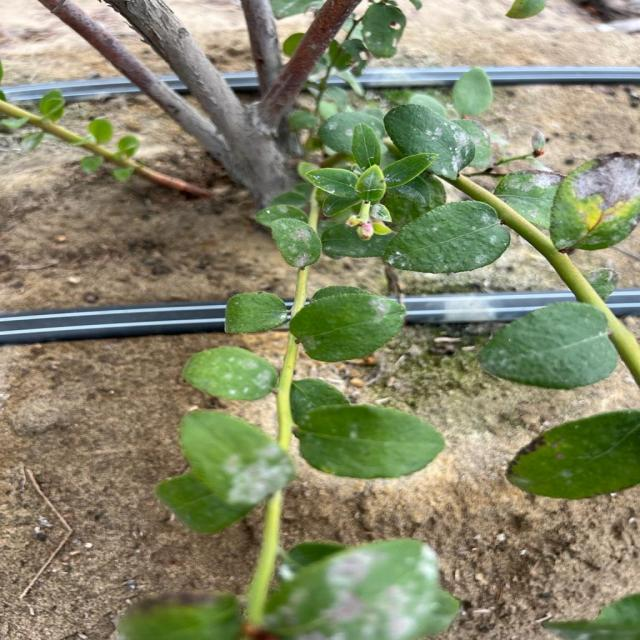Hojas con oidiosis: (377, 199, 511, 273), (287, 291, 406, 364), (381, 102, 477, 180), (180, 345, 282, 402), (222, 290, 286, 334), (268, 214, 322, 266), (304, 167, 364, 198)
